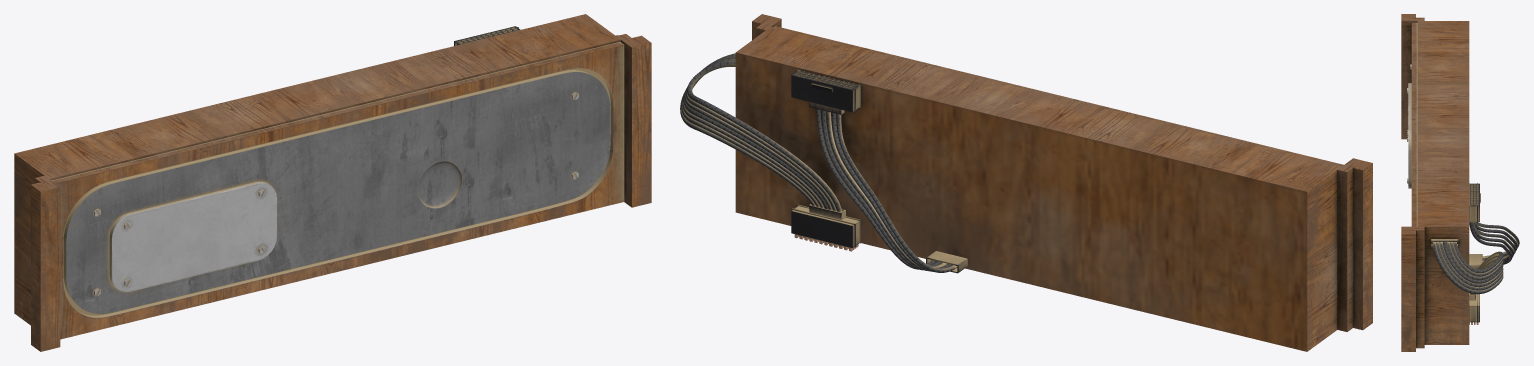
File: Panel_3.fbx
3 renders of one model, left to right at view 1: azimuth 30°, elevation 25°; view 2: azimuth 150°, elevation 25°; view 3: azimuth 270°, elevation 25°, orthographic. The views are drawn at different scales.
Parts seen in each view (by area): view 1: Cube.008; view 2: Cube.008; view 3: Cube.008.
Part boxes in pixels (<box>): Cube.008: <box>14,14,651,351</box>; Cube.008: <box>680,14,1372,351</box>; Cube.008: <box>1401,14,1519,351</box>.
Bounding box in the file's own units: 41.06 × 10.01 × 8.81.
Materials: 1 (1 with a texture image).
